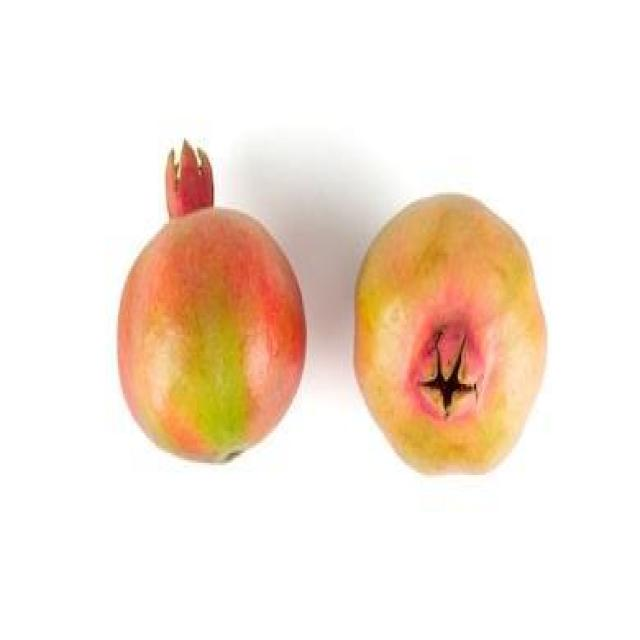Pomegranate: (115, 136, 309, 468), (351, 186, 550, 479)
